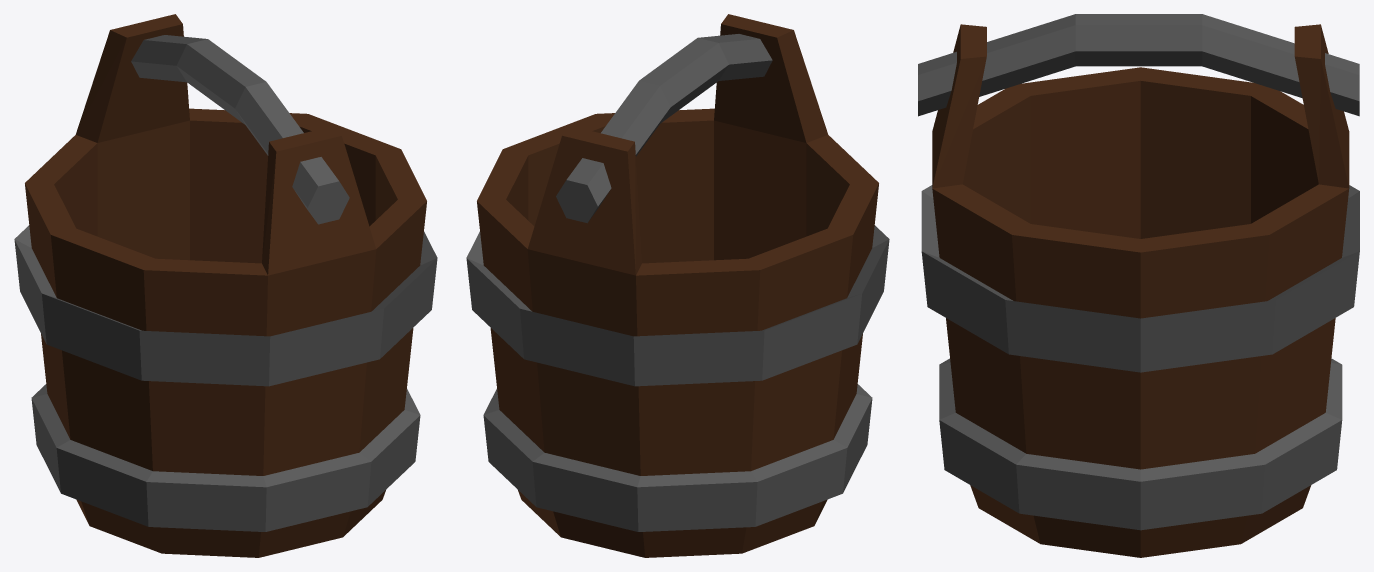
Rendered from sceau.fbx.
The picture shows the model from 3 angles, left to right: view 1: azimuth 30°, elevation 25°; view 2: azimuth 150°, elevation 25°; view 3: azimuth 270°, elevation 25°; orthographic projection. The views are drawn at different scales.
Parts seen in each view (by area): view 1: pCylinder5; view 2: pCylinder5; view 3: pCylinder5.
Boxes of the visible parts, left/top/right/bottom form: pCylinder5: left=14, top=14, right=437, bottom=557; pCylinder5: left=466, top=14, right=889, bottom=557; pCylinder5: left=918, top=14, right=1359, bottom=557.
Size of the model in its own units: 2.1 by 2.35 by 2.02.
